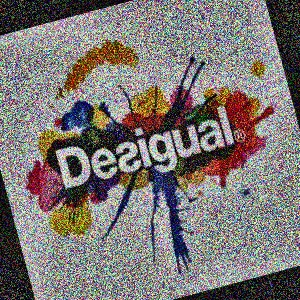desigual: (217, 50, 262, 148)
